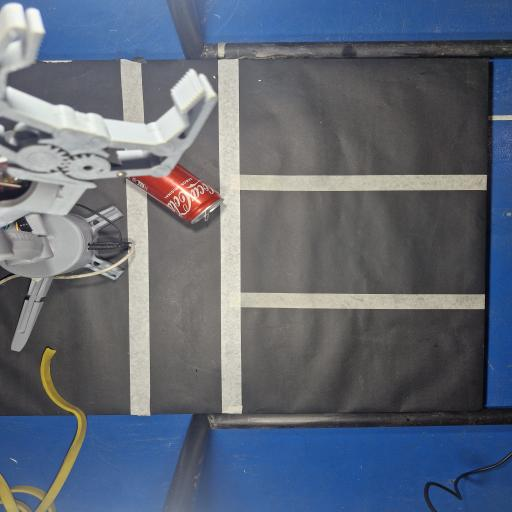lata: (128, 164, 223, 223)
